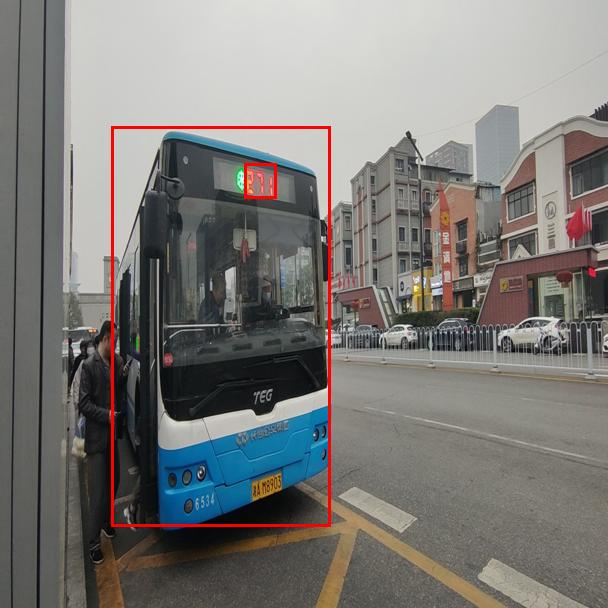bus: (111, 126, 330, 526)
screen: (244, 163, 276, 198)
